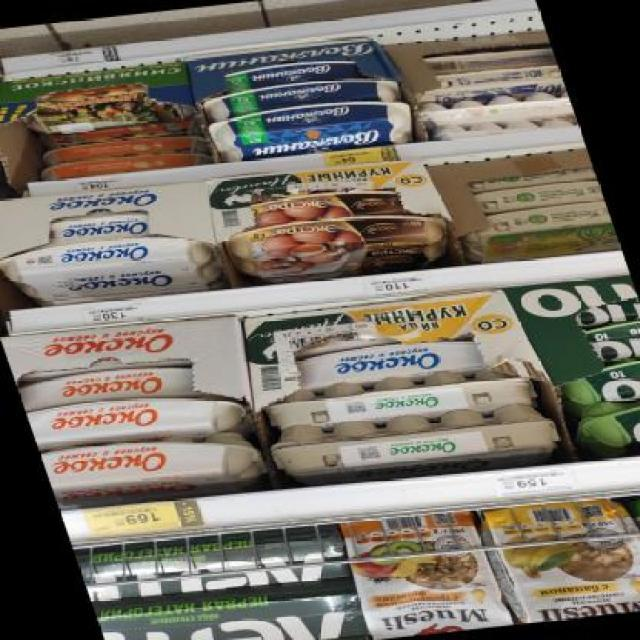egg: (266, 398, 568, 491), (332, 509, 516, 640), (473, 492, 639, 625), (252, 360, 544, 432), (222, 208, 458, 282), (0, 228, 229, 303), (292, 336, 488, 389), (566, 394, 640, 460), (552, 354, 640, 409), (45, 212, 157, 246), (582, 318, 640, 364), (574, 298, 640, 328)
